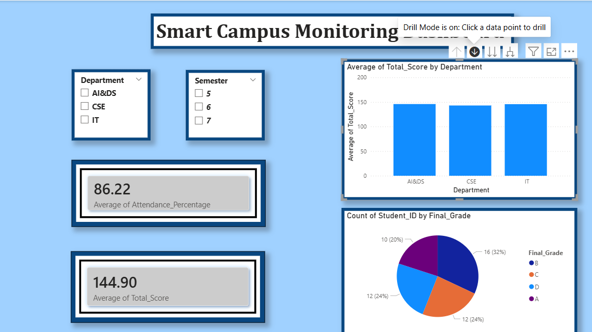

What the dashboard file says about the page in this screenshot:
{"tool":"powerbi","page":{"name":"Page 1","canvas":[1280,720],"ordinal":0},"visuals":[{"type":"textbox","box":[325.2,27.4,768.4,75.5],"z":0},{"type":"cardVisual","fields":{"Data":["Avg(5 student_performance.Attendance_Percentage)"]},"box":[157.8,337.6,410.3,141.3],"z":1000},{"type":"cardVisual","fields":{"Data":["Avg(5 student_performance.Total_Score)"]},"box":[156.4,531,410.3,150.9],"z":2000},{"type":"slicer","fields":{"Values":["5 student_performance.Department"]},"box":[157.8,145.5,167.4,150.9],"z":3000},{"type":"slicer","fields":{"Values":["5 student_performance.Semester"]},"box":[399.3,146.8,167.4,149.6],"z":4000},{"type":"clusteredColumnChart","fields":{"Y":["Avg(5 student_performance.Total_Score)"],"Category":["5 student_performance.Department","5 student_performance.Semester","5 student_performance.Subject"]},"box":[728.6,123.5,499.5,299.1],"z":5000},{"type":"pieChart","fields":{"Category":["5 student_performance.Final_Grade"],"Y":["CountNonNull(5 student_performance.Student_ID)"]},"box":[728.6,439.1,499.5,271.7],"z":6000}]}

Visuals, with their boxes in screenshot pixels (x1, y1, x2, y2):
textbox: Rect(150, 13, 512, 48)
cardVisual - Avg(5 student_performance.Attendance_Percentage): Rect(71, 159, 264, 225)
cardVisual - Avg(5 student_performance.Total_Score): Rect(71, 250, 264, 321)
slicer - 5 student_performance.Department: Rect(71, 68, 150, 140)
slicer - 5 student_performance.Semester: Rect(185, 69, 264, 140)
clusteredColumnChart - Avg(5 student_performance.Total_Score) x 5 student_performance.Department: Rect(340, 58, 575, 199)
pieChart - 5 student_performance.Final_Grade x CountNonNull(5 student_performance.Student_ID): Rect(340, 207, 575, 331)
